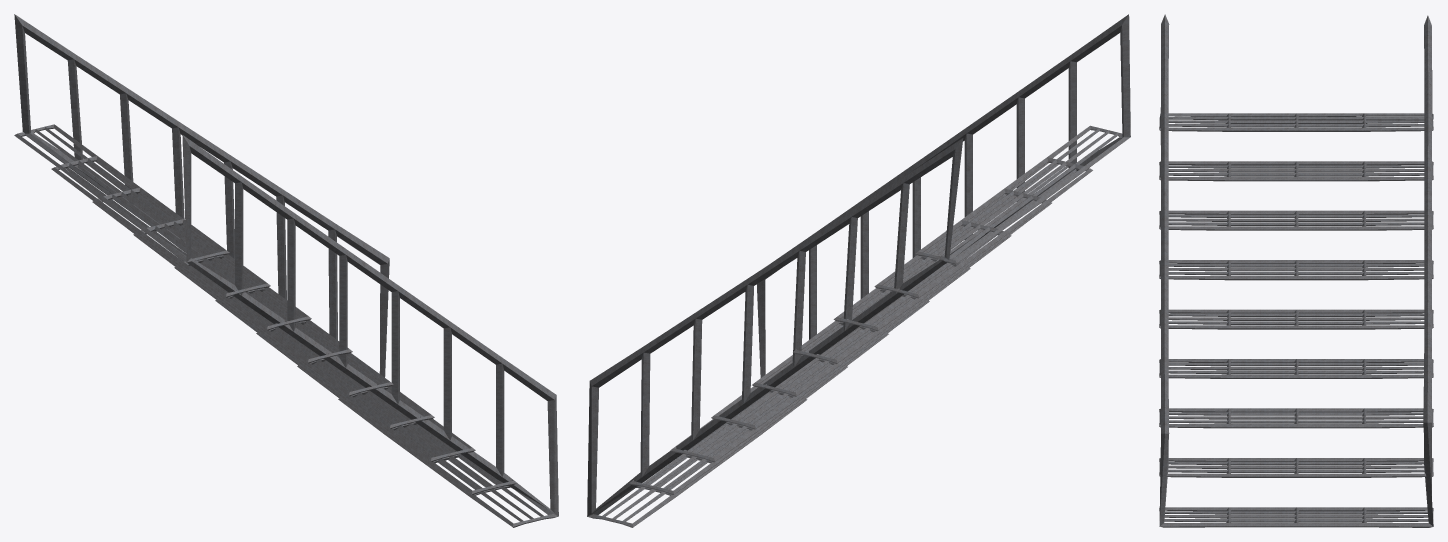
Rendered from Escalera fabrica arreglada.fbx.
3 renders of one model, left to right at view 1: azimuth 30°, elevation 25°; view 2: azimuth 150°, elevation 25°; view 3: azimuth 270°, elevation 25°, orthographic. The views are drawn at different scales.
Visible parts, largest first — view 1: Cube.002; view 2: Cube.002; view 3: Cube.002.
Part boxes in pixels (x1,y1,x2,y2): Cube.002: (14, 14, 558, 527); Cube.002: (587, 14, 1130, 527); Cube.002: (1159, 14, 1433, 527).
Bounding box in the file's own units: 211 × 254 × 170.
1 material, 1 textured.
